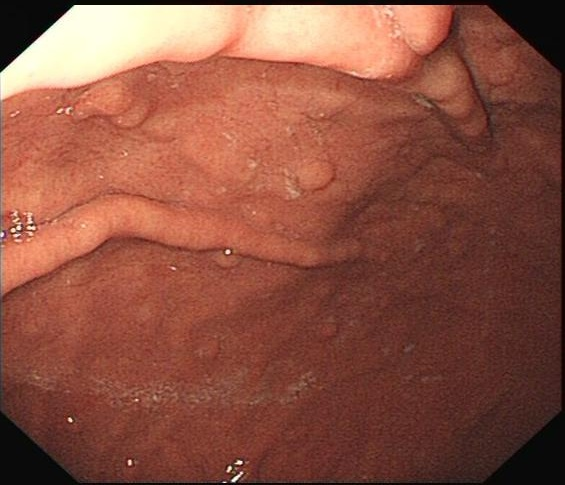Polyp: (68, 80, 152, 132), (396, 6, 454, 59)
